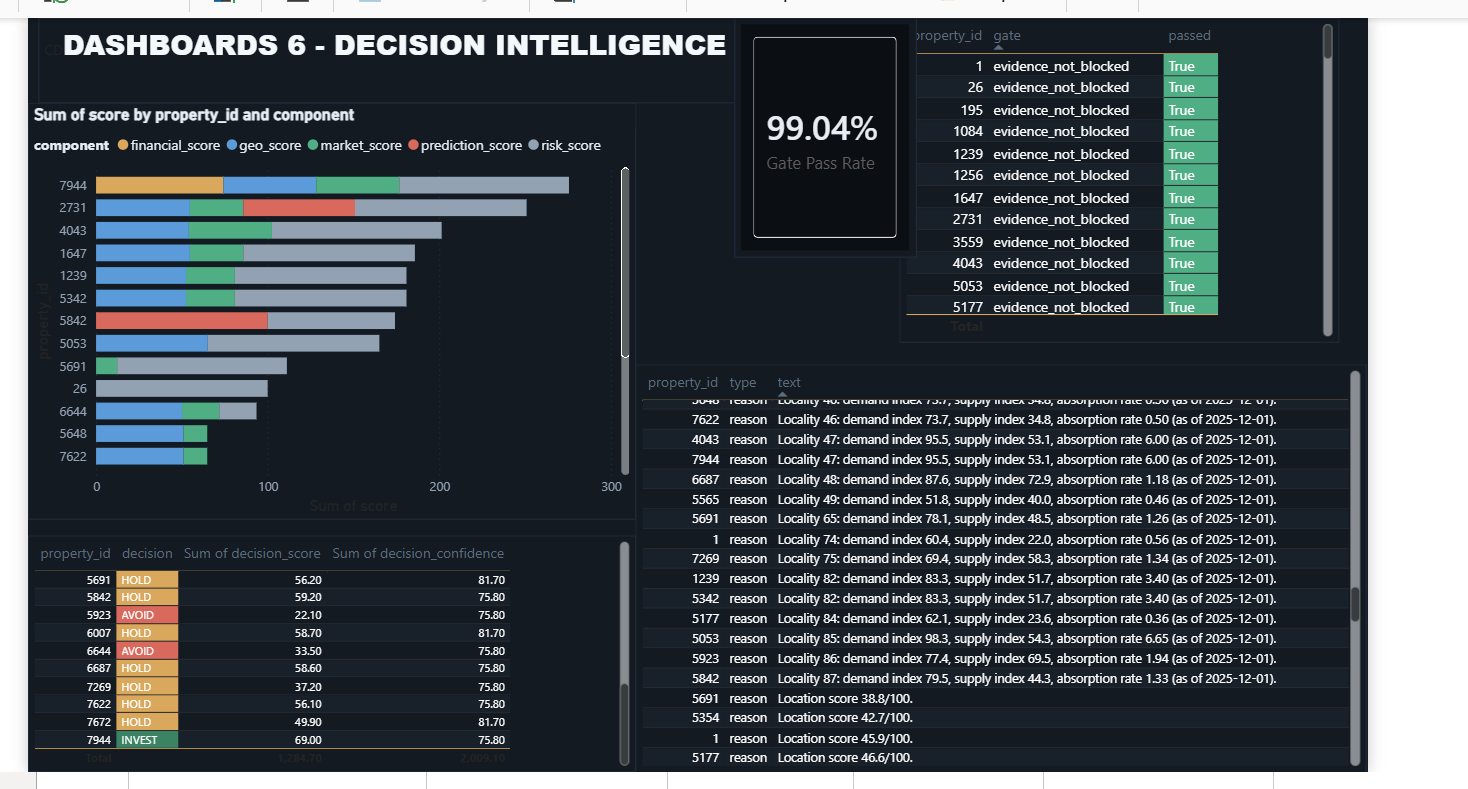

The page's visual inventory and layout, read from the dashboard file:
{"tool":"powerbi","page":{"name":"Decision\tIntelligence\t","canvas":[1280,720],"ordinal":5},"visuals":[{"type":"textbox","box":[9.5,0,728.5,81.1],"z":0},{"type":"tableEx","fields":{"Values":["mart_06_decision_summary.property_id","mart_06_decision_summary.decision","Sum(mart_06_decision_summary.decision_score)","Sum(mart_06_decision_summary.decision_confidence)"]},"box":[0,494.7,580.6,225.9],"z":1000},{"type":"barChart","fields":{"Category":["mart_06b_decision_components.property_id"],"Y":["Sum(mart_06b_decision_components.score)"],"Series":["mart_06b_decision_components.component"]},"box":[0,81.1,580.6,397.7],"z":2000},{"type":"tableEx","fields":{"Values":["mart_06c_decision_gates.property_id","mart_06c_decision_gates.gate","mart_06c_decision_gates.passed"]},"box":[831.9,0,419.9,310.2],"z":3000},{"type":"tableEx","fields":{"Values":["mart_06d_decision_reasons.property_id","mart_06d_decision_reasons.type","mart_06d_decision_reasons.text"]},"box":[580.6,330.8,698.3,389.7],"z":4000},{"type":"cardVisual","fields":{"Data":["mart_06_decision_summary.Gate Pass Rate"]},"box":[674.7,0,173.9,228.7],"z":5000}]}

Visuals, with their boxes on the page's 1280x720 design canvas (x1, y1, x2, y2). These are canvas units, not pixel positions in the 1468x789 screenshot, which may show the page scaled, cropped or inside an application window:
textbox: bbox=[10, 0, 738, 81]
tableEx - mart_06_decision_summary.property_id x mart_06_decision_summary.decision: bbox=[0, 495, 581, 721]
barChart - mart_06b_decision_components.property_id x Sum(mart_06b_decision_components.score): bbox=[0, 81, 581, 479]
tableEx - mart_06c_decision_gates.property_id x mart_06c_decision_gates.gate: bbox=[832, 0, 1252, 310]
tableEx - mart_06d_decision_reasons.property_id x mart_06d_decision_reasons.type: bbox=[581, 331, 1279, 720]
cardVisual - mart_06_decision_summary.Gate Pass Rate: bbox=[675, 0, 849, 229]
